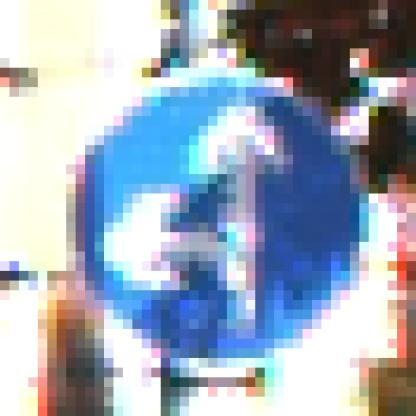Straight or Left: (48, 59, 370, 369)
